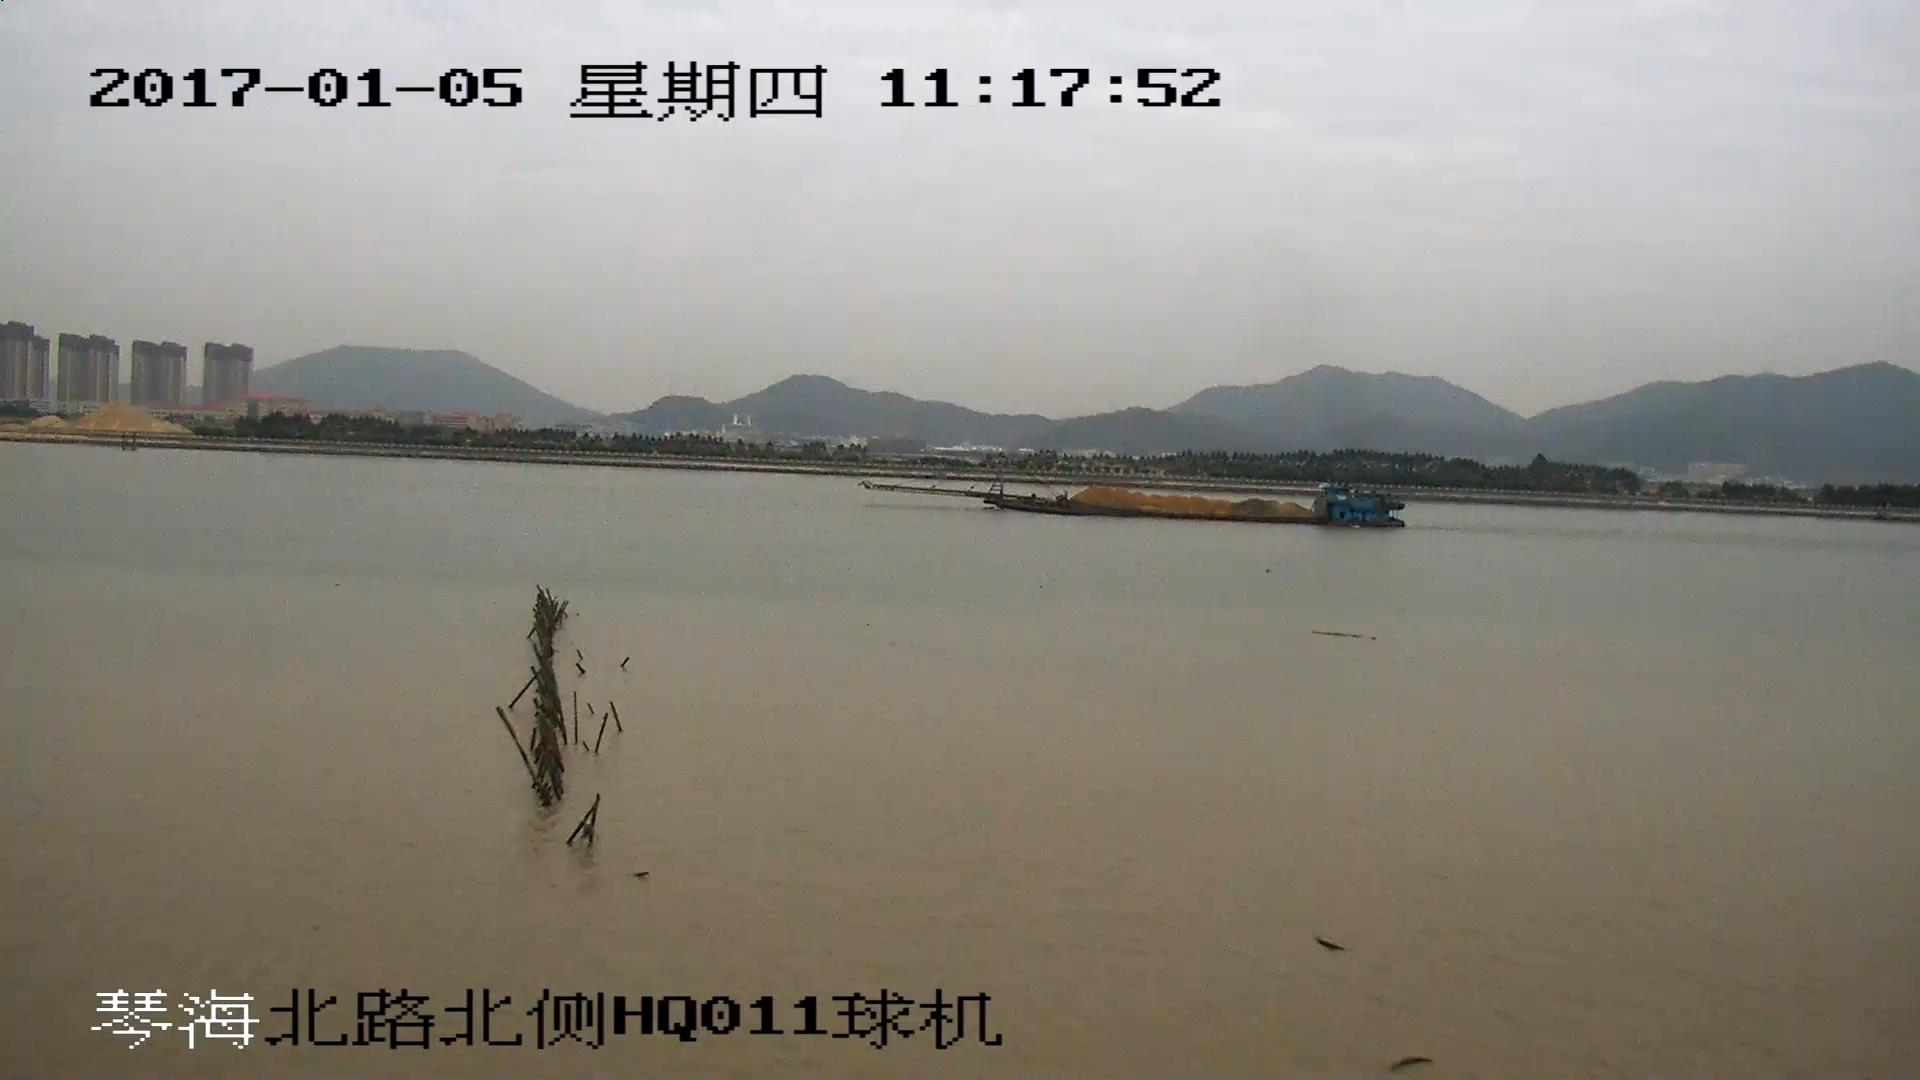ore carrier: (886, 462, 1404, 530)
